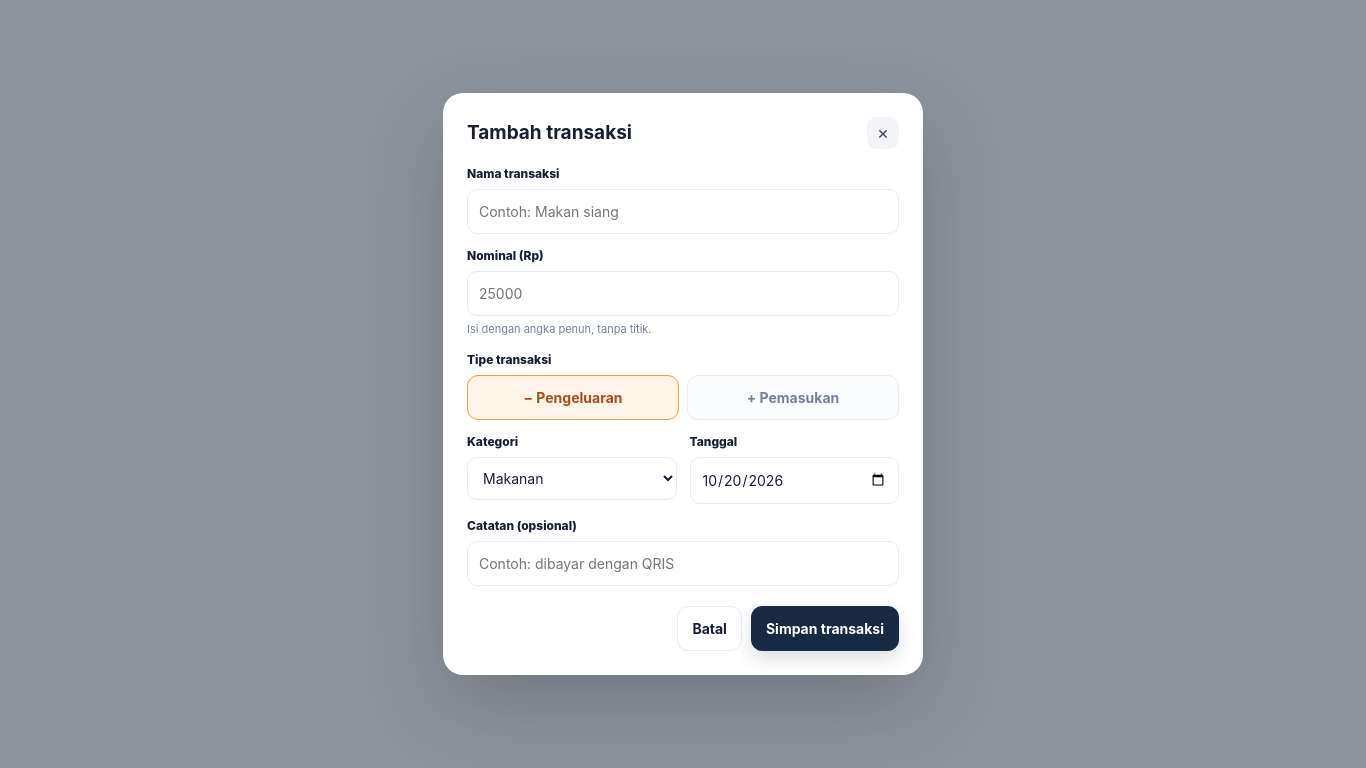
Test: AddTransactionModal › menampilkan pesan validasi saat field wajib kosong
Click the button "Simpan transaksi". click: (825, 628)
box: [751,606,899,651]
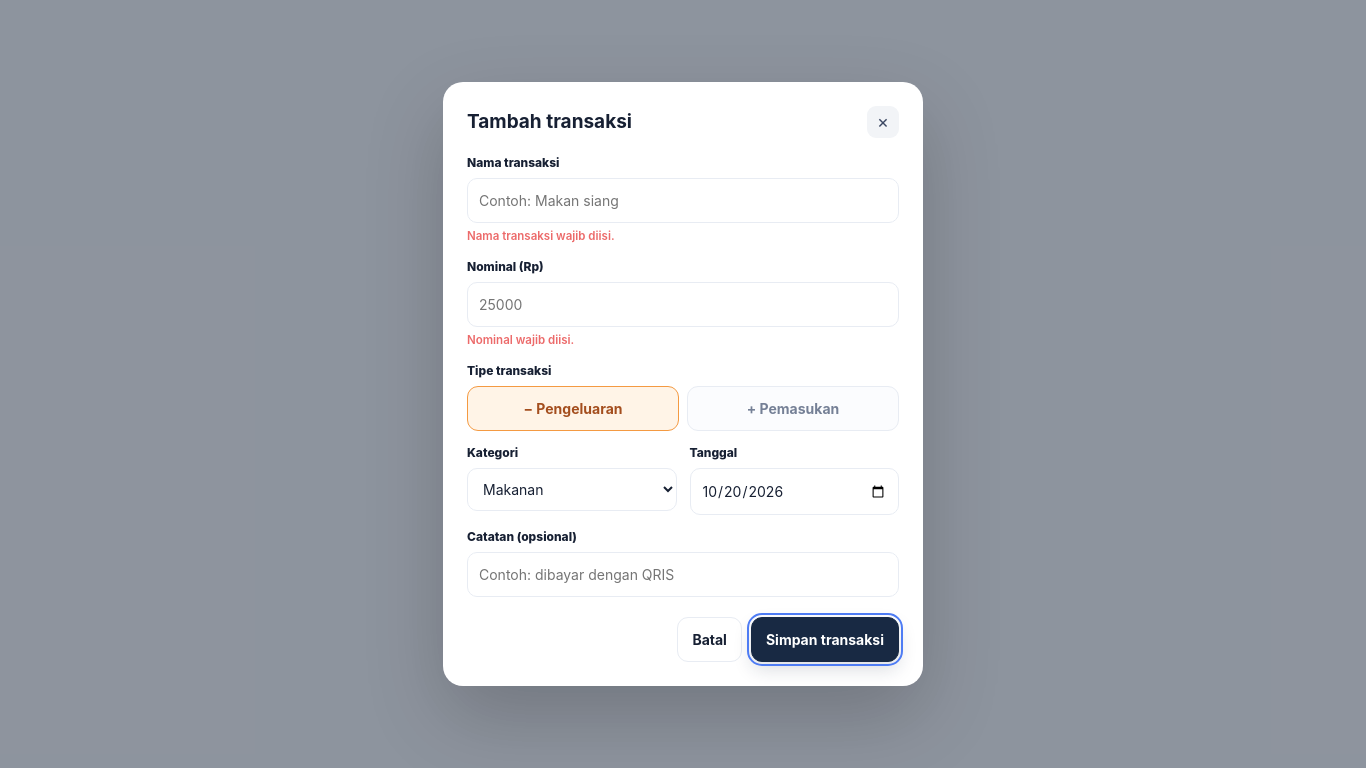
Now the text "Nama transaksi wajib diisi." is shown, box [467,229,615,243]
Now the text "Nominal wajib diisi." is shown, box [467,333,574,347]
